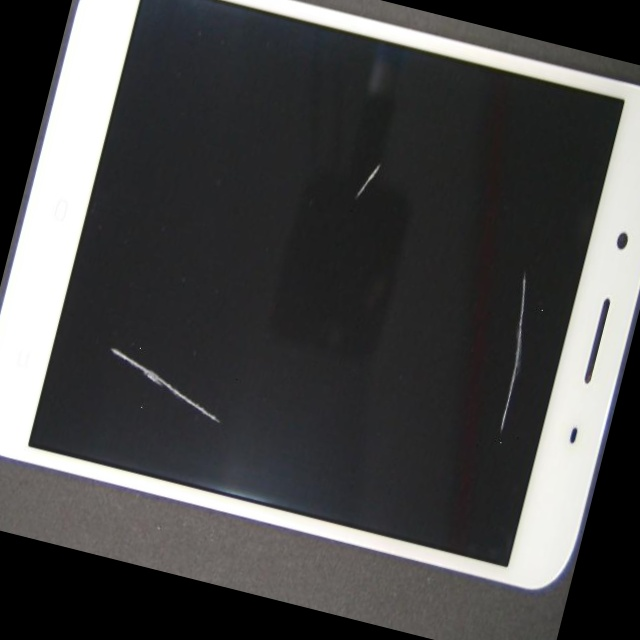scratch: (208, 51, 640, 542), (0, 116, 265, 572), (165, 36, 540, 333)
